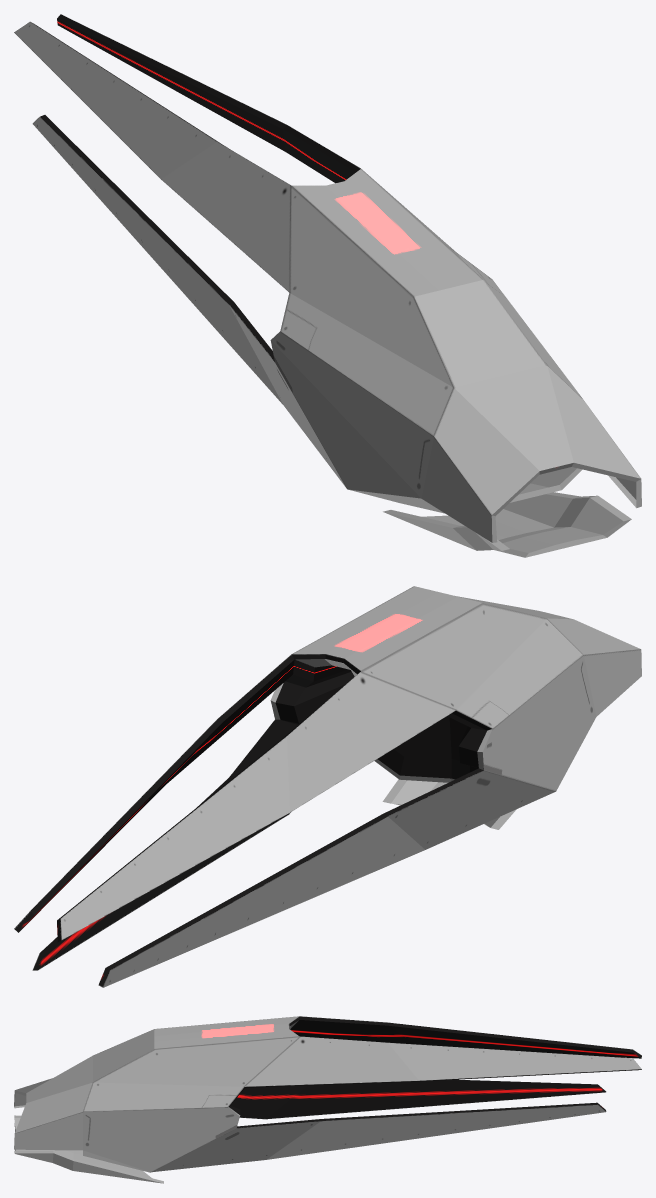
File: Space.Gun (1).fbx
3 views of the same model, one above another, from view 1: azimuth 30°, elevation 25°; view 2: azimuth 150°, elevation 25°; view 3: azimuth 270°, elevation 25° (orthographic). The views are drawn at different scales.
Parts seen in each view (by area): view 1: Gun; view 2: Gun; view 3: Gun.
Part boxes in pixels (<box>): Gun: <box>14,14,641,557</box>; Gun: <box>14,586,641,987</box>; Gun: <box>14,1016,641,1183</box>.
Size of the model in its own units: 32.1 by 35.37 by 139.
Materials: 1 (1 with a texture image).
